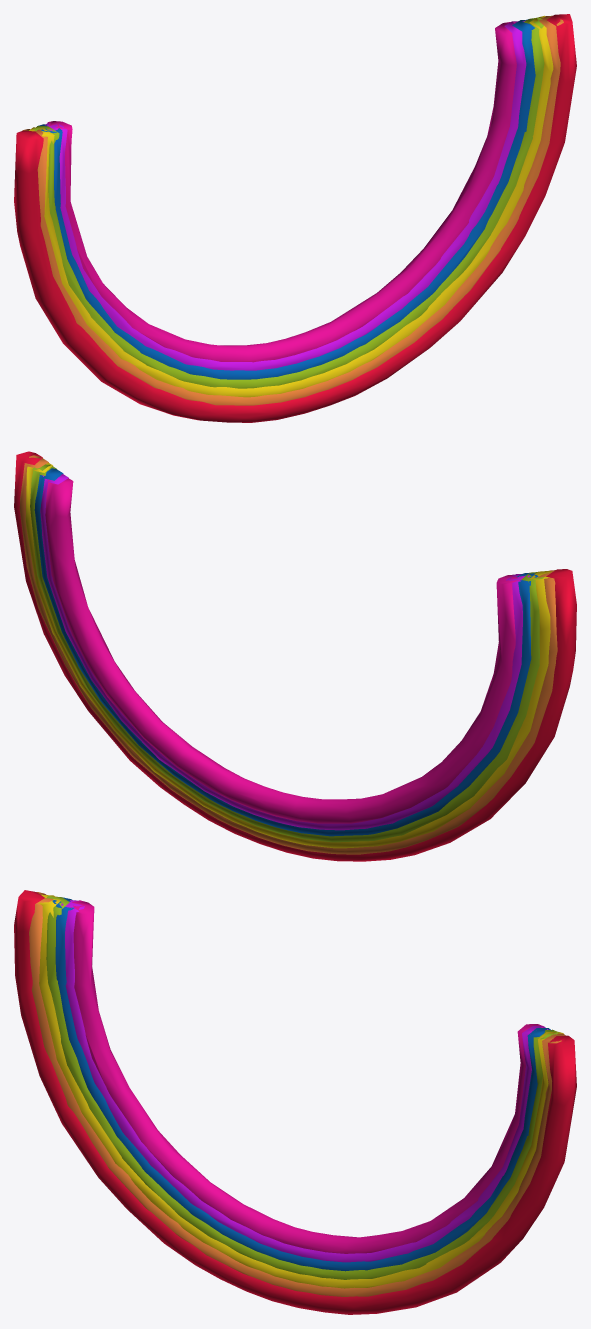
File: GaySwing.fbx
3 renders of one model, top to bottom at view 1: azimuth 30°, elevation 25°; view 2: azimuth 150°, elevation 25°; view 3: azimuth 330°, elevation 25°, orthographic.
Visible parts, largest first — view 1: Rainbow; view 2: Rainbow; view 3: Rainbow.
Part boxes in pixels (bbox=[...]): Rainbow: bbox=[14, 14, 576, 422]; Rainbow: bbox=[14, 451, 576, 861]; Rainbow: bbox=[14, 890, 576, 1314].
Bounding box in the file's own units: 122 × 71.87 × 8.86.
